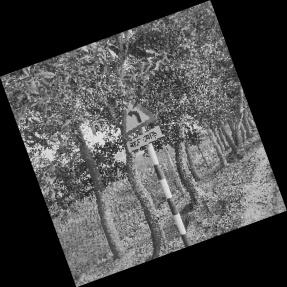Right-turn: (121, 99, 165, 154)
